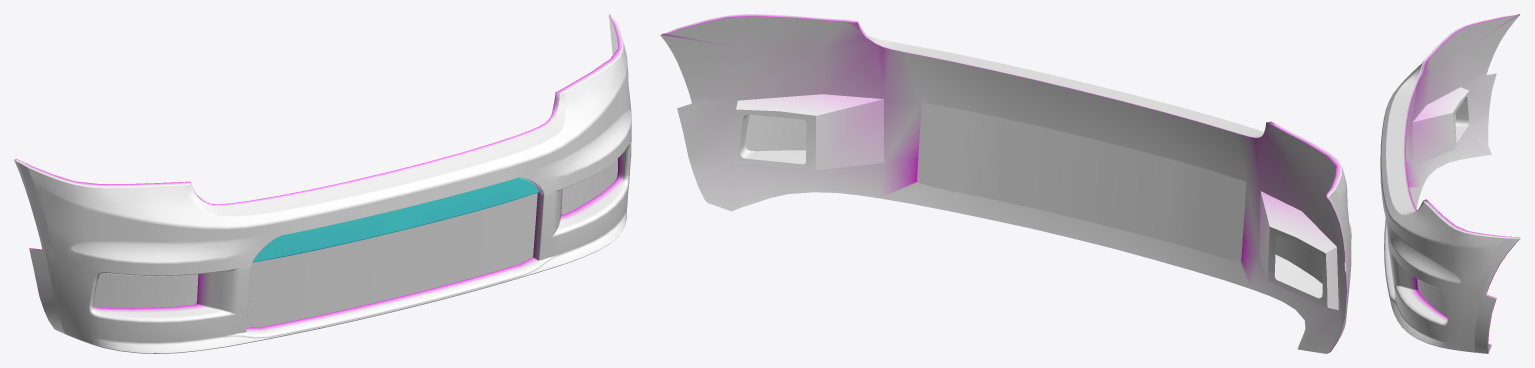
File: Car_Mini_CountrymanJCW_2017_BumperF_SetD_AltC.fbx
The picture shows the model from 3 angles, left to right: view 1: azimuth 30°, elevation 25°; view 2: azimuth 150°, elevation 25°; view 3: azimuth 270°, elevation 25°; orthographic projection. The views are drawn at different scales.
Visible parts, largest first — view 1: BumperF 6; view 2: BumperF 6; view 3: BumperF 6.
Boxes of the visible parts, x1,y1,x2,y2 form: BumperF 6: (14,14,631,353); BumperF 6: (660,14,1351,353); BumperF 6: (1380,14,1520,353).
Bounding box in the file's own units: 1.75 × 0.4511 × 0.4606.
